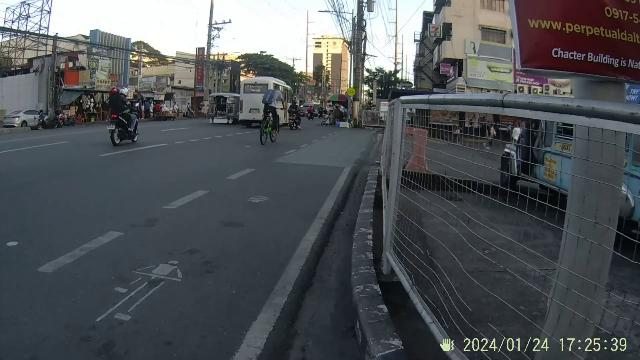street_vendor_cart: (69, 83, 111, 125), (83, 84, 113, 124)
